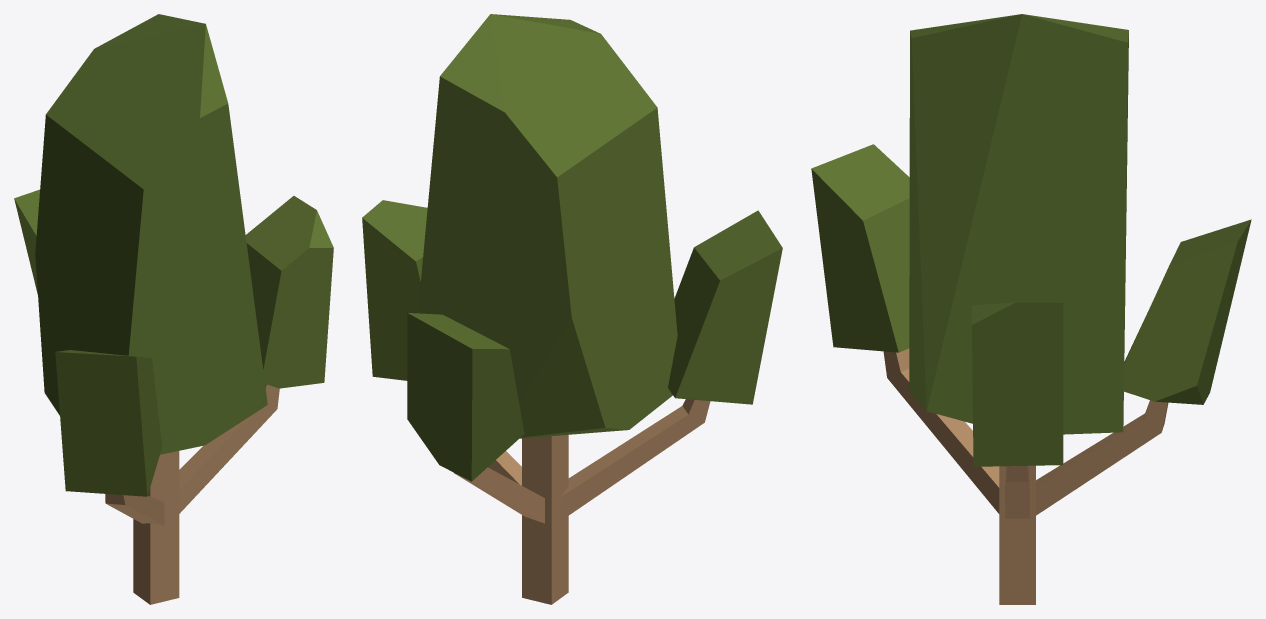
Rendered from tree05.fbx.
The picture shows the model from 3 angles, left to right: view 1: azimuth 30°, elevation 25°; view 2: azimuth 150°, elevation 25°; view 3: azimuth 270°, elevation 25°; orthographic projection. The views are drawn at different scales.
Visible parts, largest first — view 1: Cube.430; view 2: Cube.430; view 3: Cube.430.
Boxes of the visible parts, bbox=[...] form: Cube.430: bbox=[14, 14, 333, 604]; Cube.430: bbox=[362, 14, 782, 604]; Cube.430: bbox=[811, 14, 1251, 604].
Size of the model in its own units: 350 by 571 by 373.
